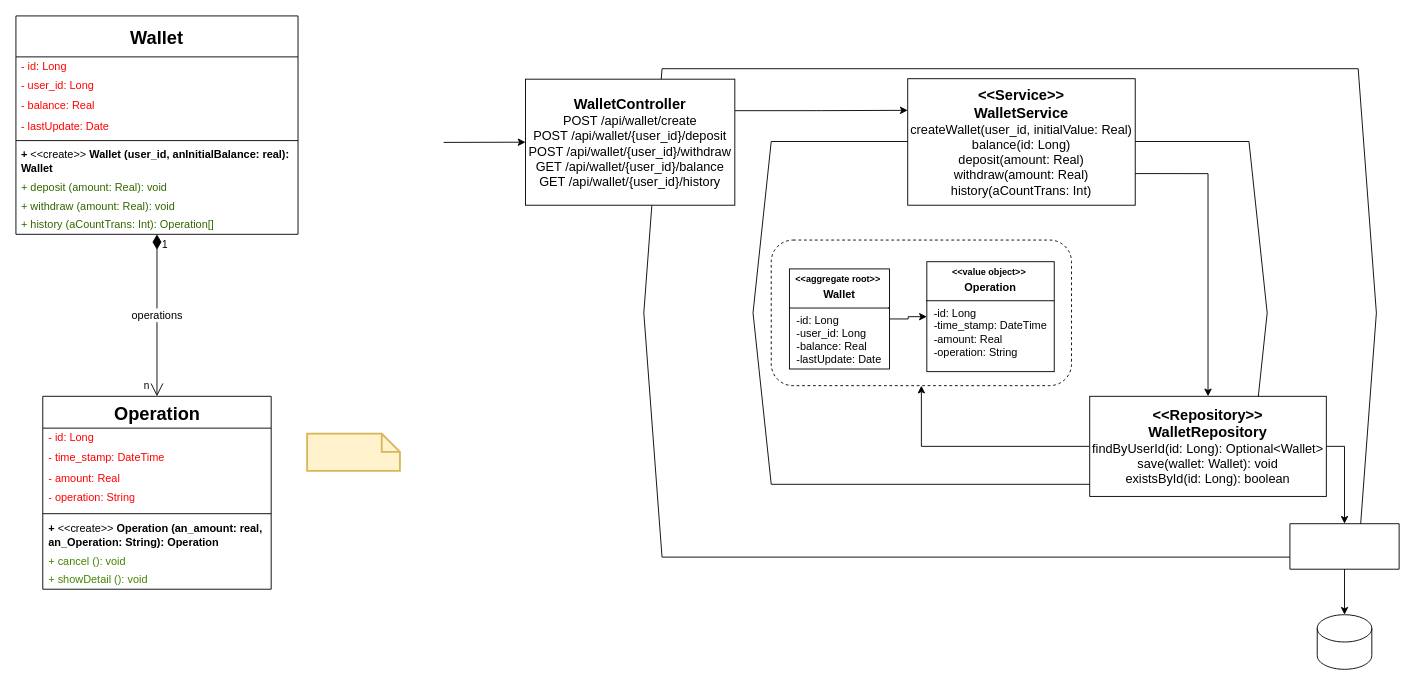
The diagram is 1415 pixels wide and 685 high, and some of its shapes have lost their labels. The shapes that lost their labels are listed below. From the top down, each one's box as (x1, y1, x2, y2) in pixels, then its label:
(306, 432, 400, 471): Historic information
(1289, 523, 1399, 569): JPA Adapter
